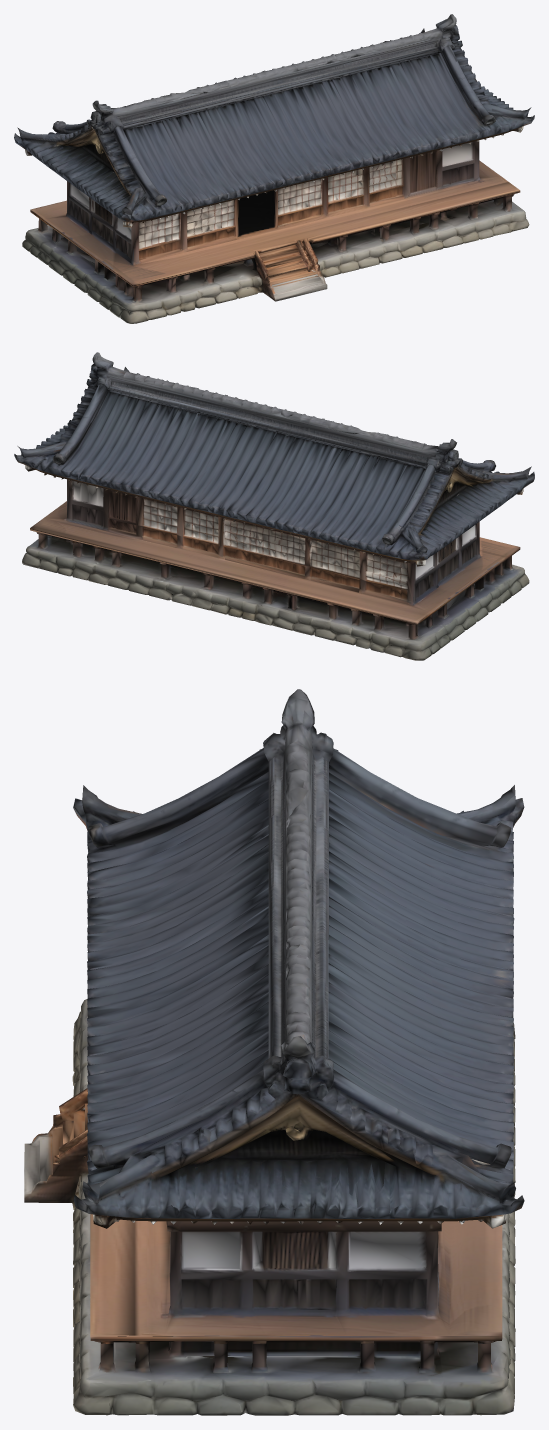
The model's file is main_hall_goten.glb.
3 renders of one model, top to bottom at view 1: azimuth 30°, elevation 25°; view 2: azimuth 150°, elevation 25°; view 3: azimuth 270°, elevation 25°, orthographic. The views are drawn at different scales.
Parts seen in each view (by area): view 1: node_0; view 2: node_0; view 3: node_0.
Boxes of the visible parts, x1,y1,x2,y2 form: node_0: (14,14,534,323); node_0: (14,352,534,660); node_0: (24,689,524,1415).
Bounding box in the file's own units: 22.93 × 9.42 × 12.
1 material, 1 textured.
